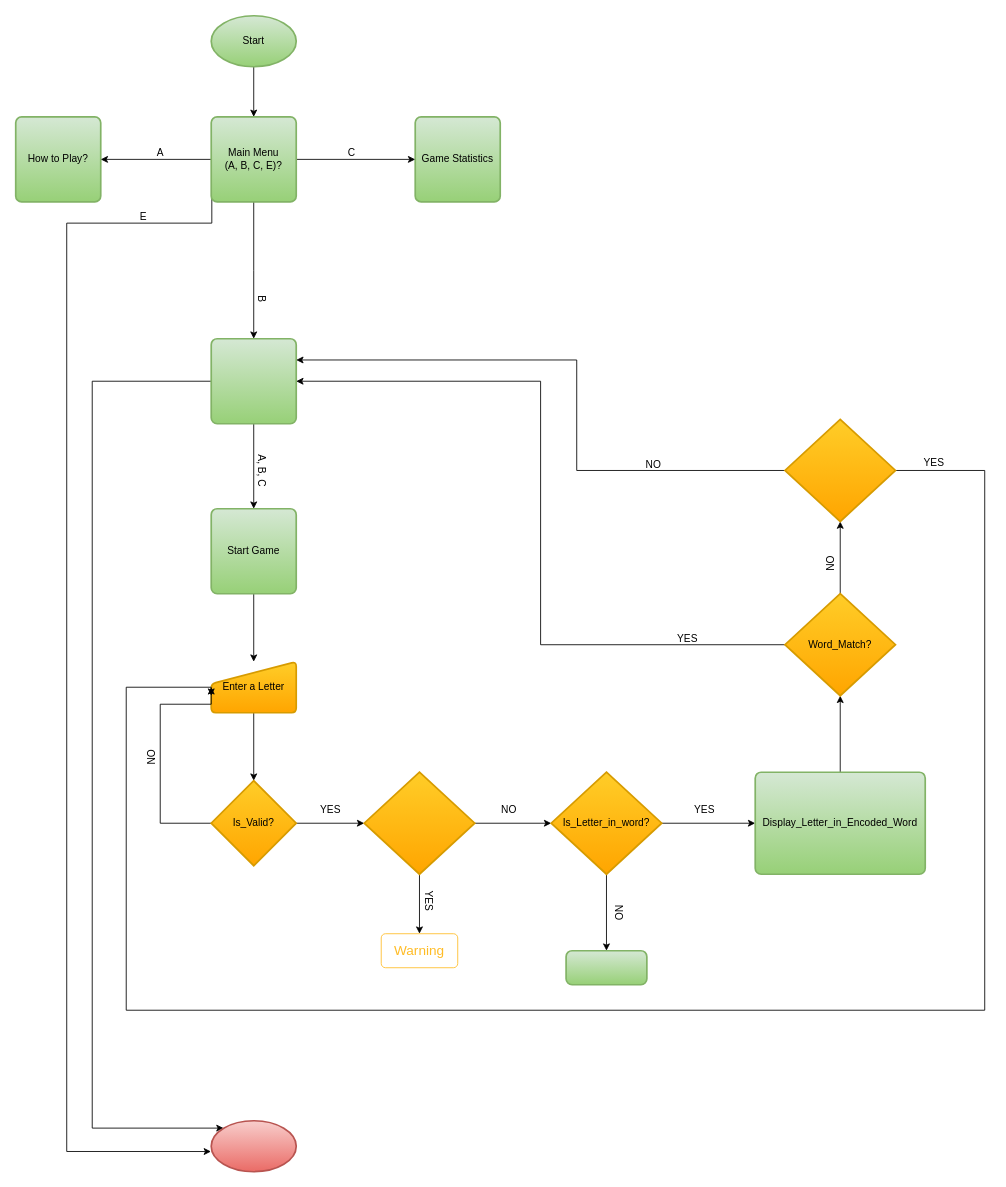
This 1006x1187 diagram has some shape labels left out. The box of each missing label's shape, as (x1, y1, x2, y2) in pixels:
End: (210, 1119, 297, 1172)
Is_Used_before?: (363, 771, 475, 875)
Lives -1: (565, 949, 647, 985)
Lives > 0?: (784, 418, 896, 522)
Play Game Menu (A, B, C, E)?: (210, 337, 297, 424)
